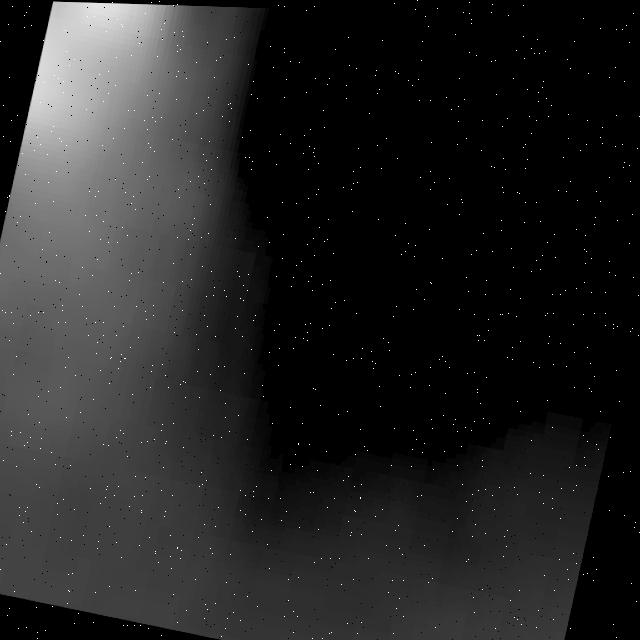person: (1, 1, 201, 295)
